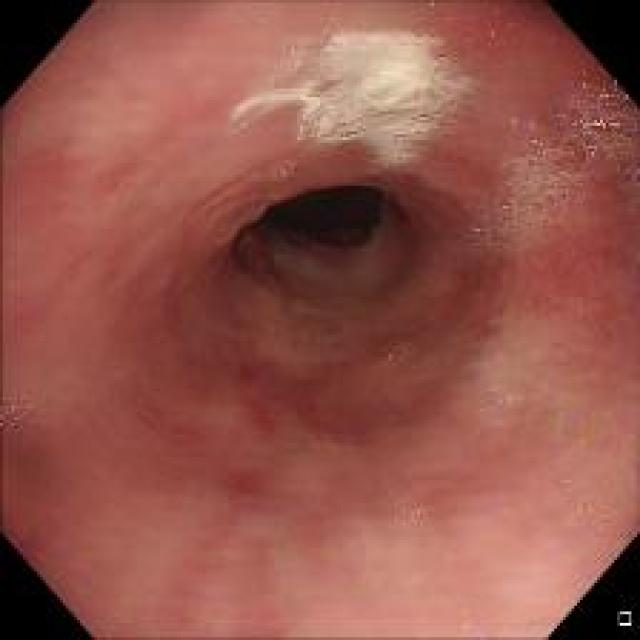bubbles: (474, 130, 595, 239), (556, 60, 635, 195), (421, 49, 475, 101), (375, 479, 429, 529), (375, 332, 415, 370), (1, 399, 42, 435), (281, 41, 320, 75), (390, 126, 428, 151), (555, 466, 581, 494), (365, 39, 391, 64), (422, 109, 455, 128), (575, 496, 599, 519), (492, 391, 511, 412), (599, 511, 616, 529), (619, 525, 635, 540), (478, 384, 492, 399), (551, 391, 565, 406), (530, 382, 544, 396)
color misalignment: (574, 74, 628, 159)
contrast: (234, 170, 392, 270)
